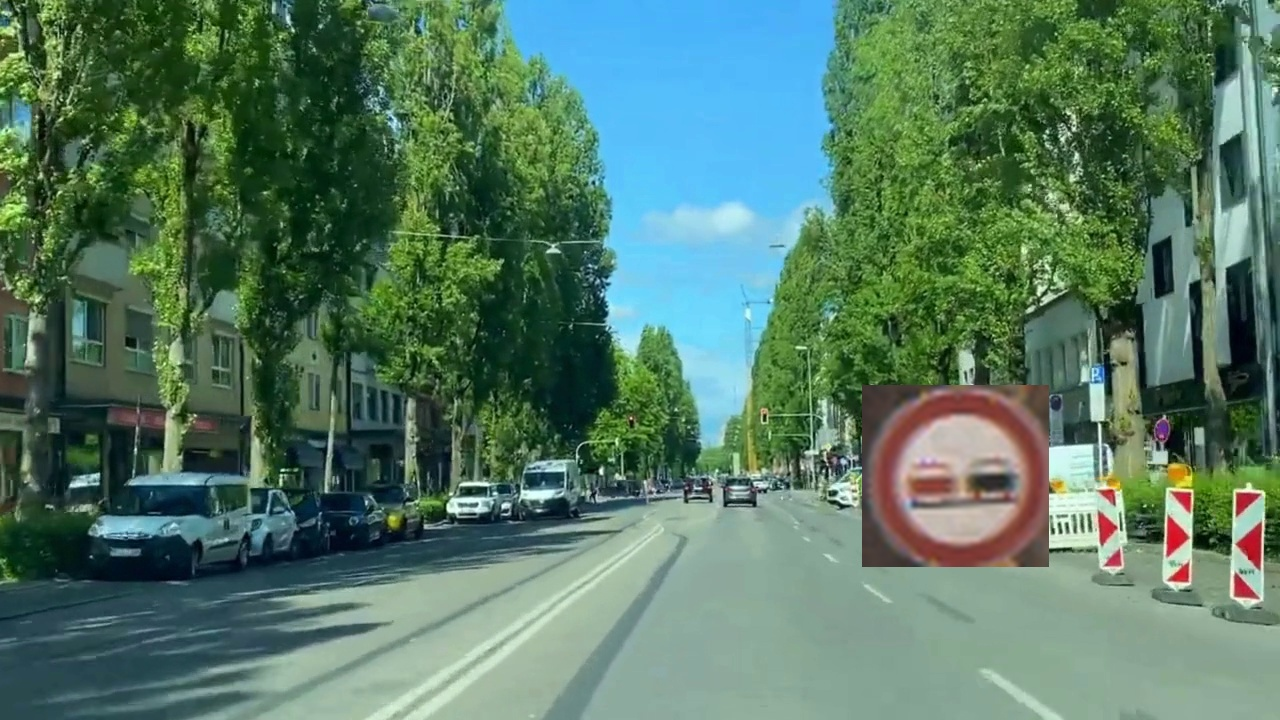No passing: (862, 385, 1049, 567)
